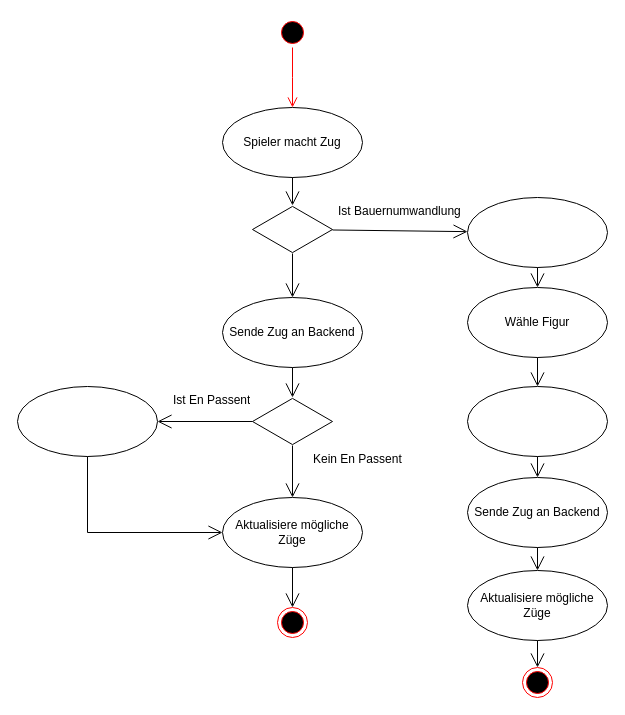
Image size: 625x715. Some labels were removed from this diagram. The box of each missing label's shape, as (x1, y1, x2, y2) in pixels:
Lösche Bauern und setze Figur: (466, 386, 608, 456)
Lösche geschlagenen Bauern: (16, 386, 158, 456)
Öffne PromotionModal: (466, 196, 608, 268)
